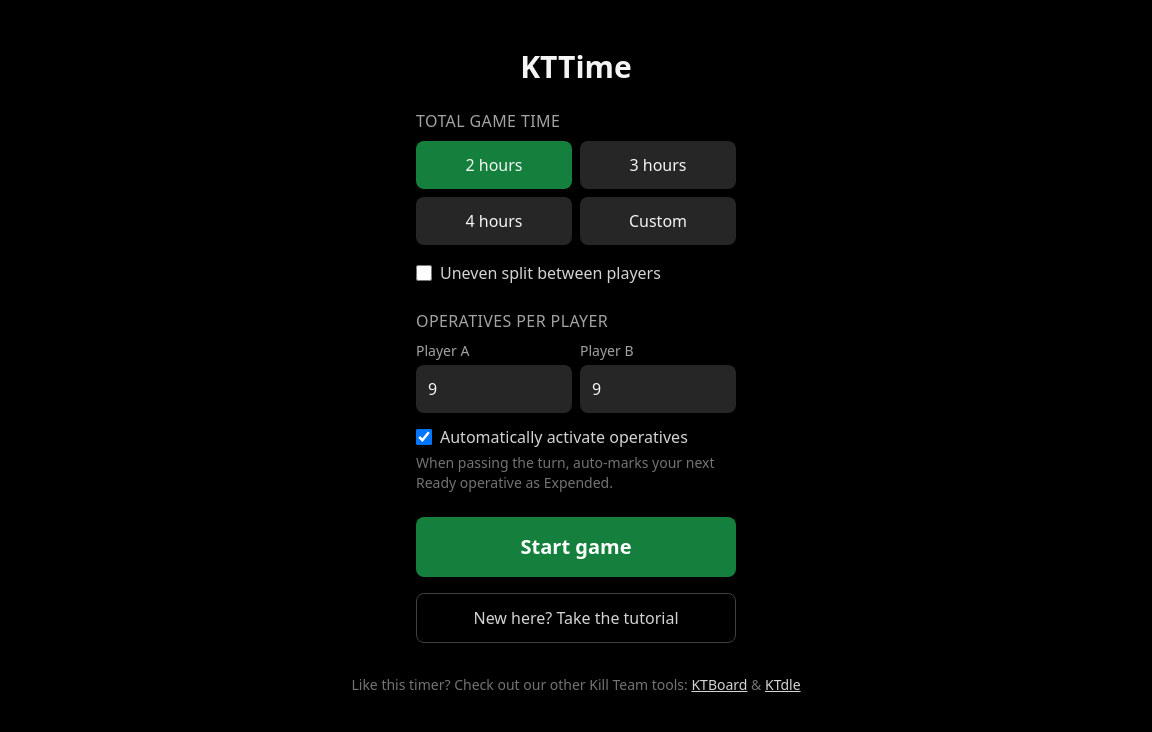
App › tapping the active player's own zone passes the turn to the other player
Click the button "Start game".
click(576, 547)  # box [416, 517, 736, 577]
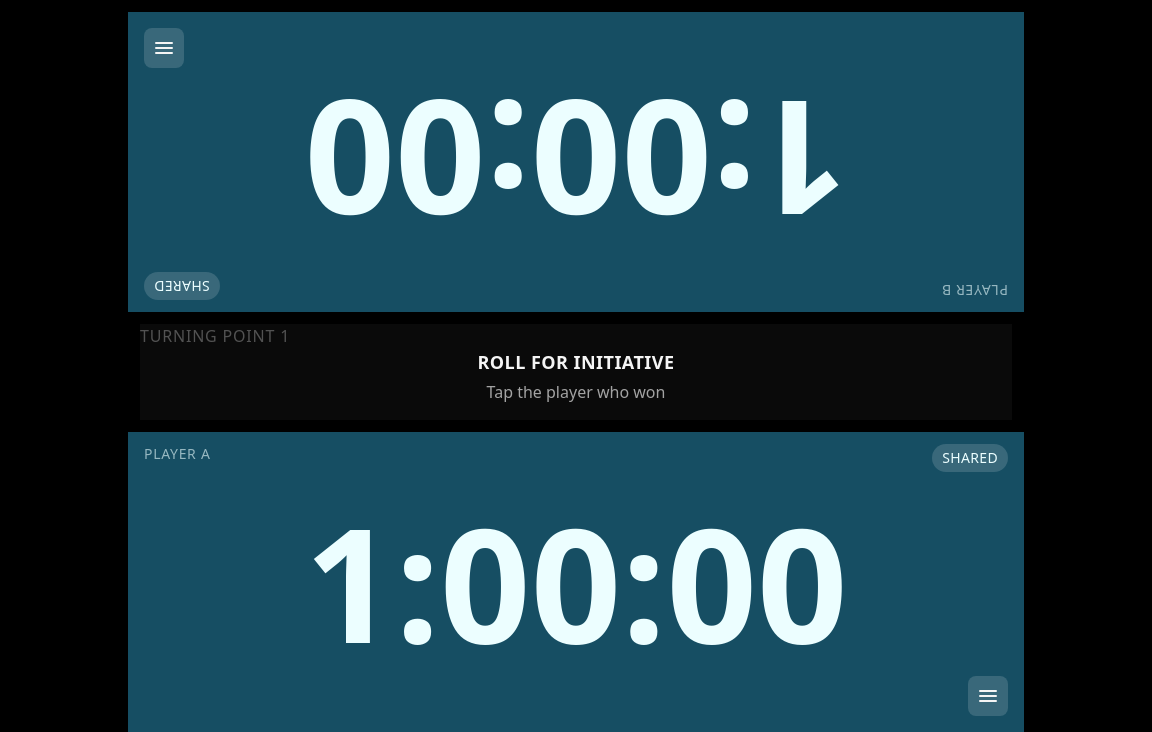
# Resolve the opening initiative roll so A is the sole active player.
Click the button named "Player A zone".
click(576, 582)  # box [128, 432, 1024, 731]
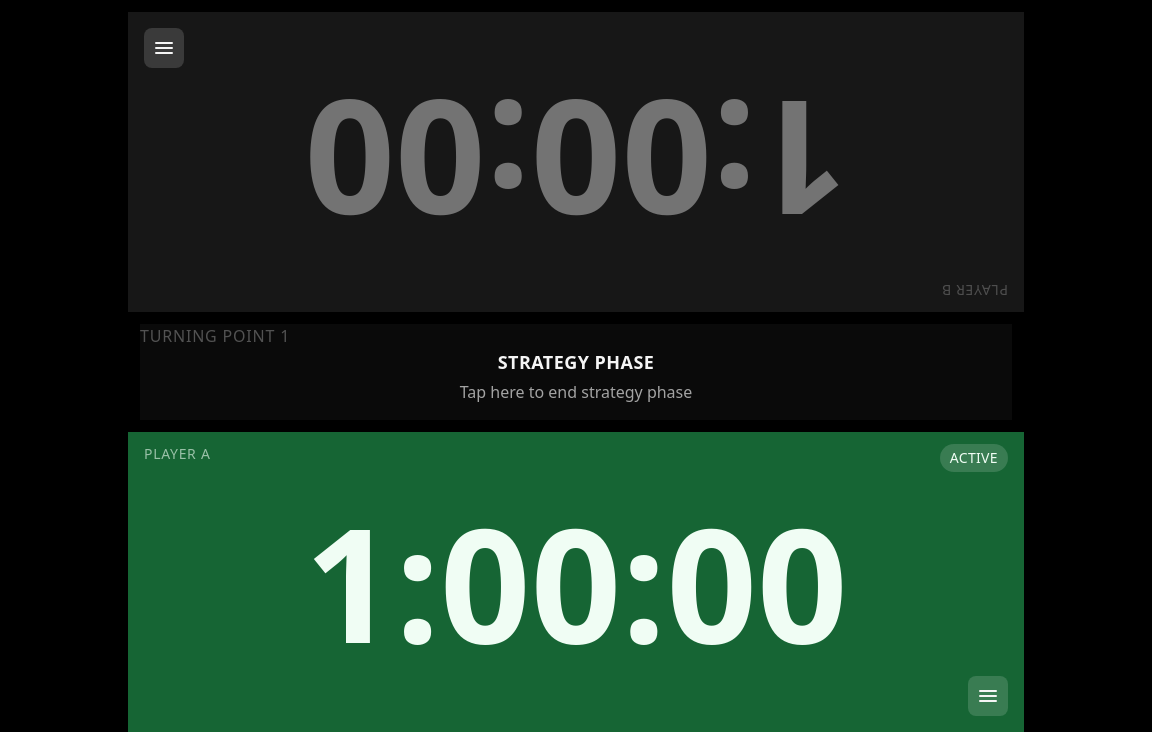
Click the button named "Player A zone".
click(576, 582)  # box [128, 432, 1024, 731]
Wait 5250 ms
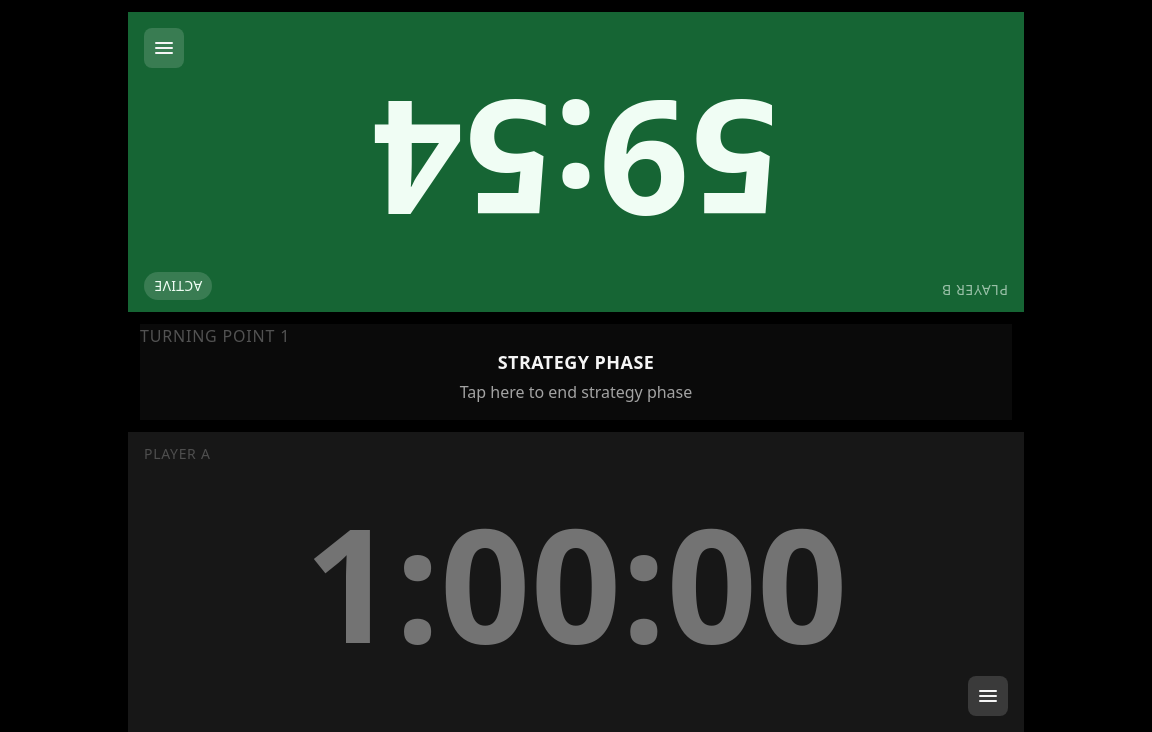
Result: the text "Active" is shown once at [144, 272, 212, 300]
Result: the text "Player B" shows "Active" at [154, 277, 202, 296]
